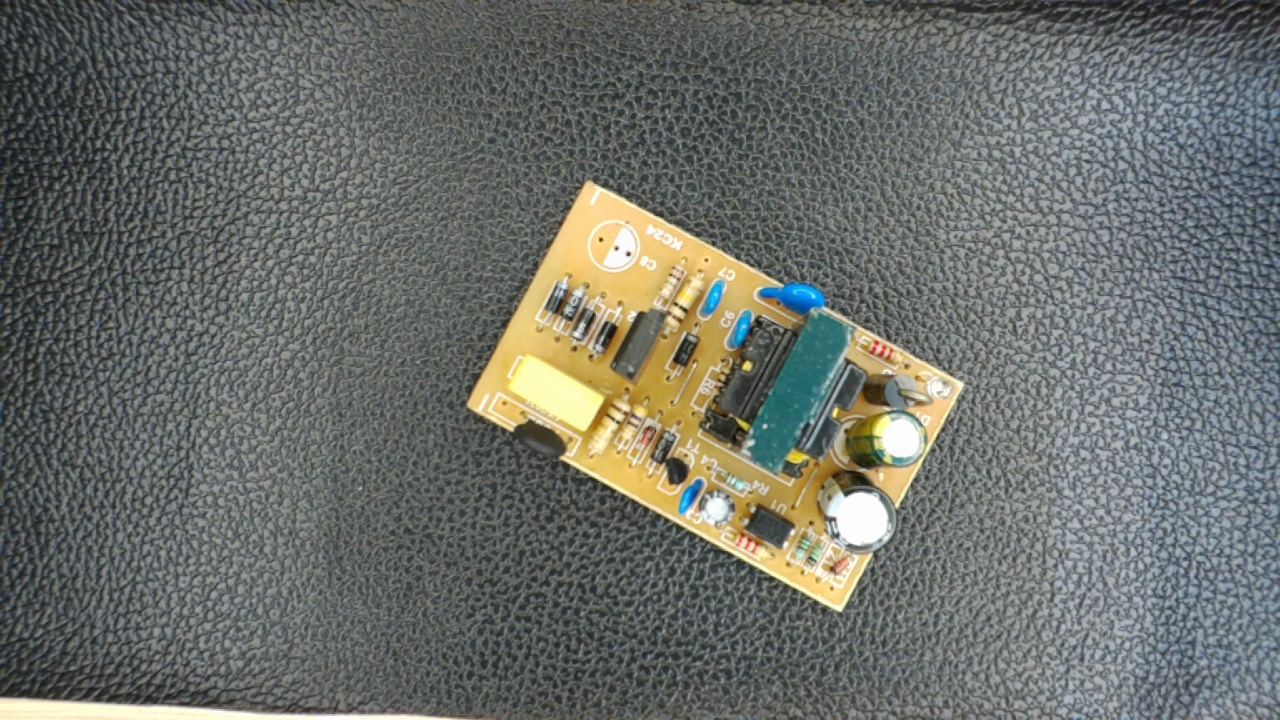fuse: (503, 408, 576, 464)
mov: (749, 273, 831, 318)
optocoupler: (735, 495, 801, 552)
